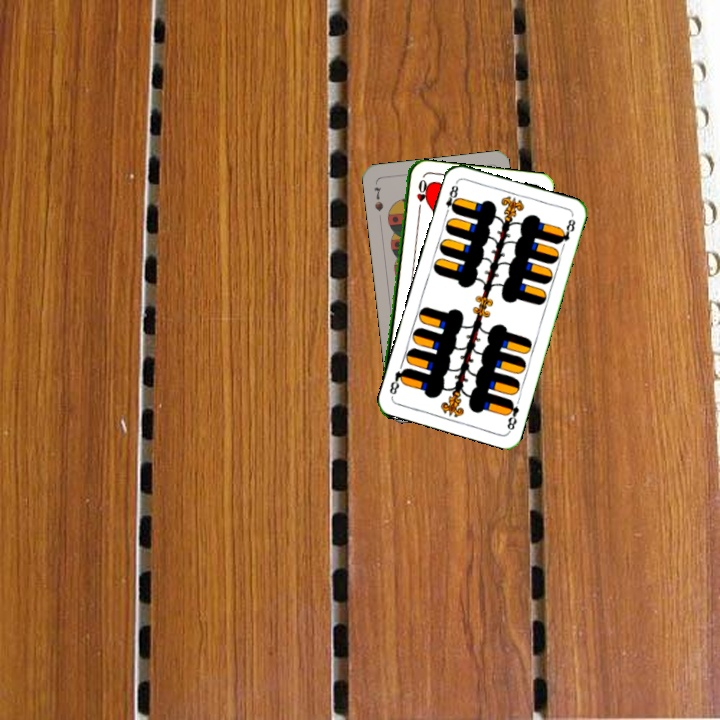E8: (441, 178, 461, 218), (502, 396, 522, 434)
HO: (412, 175, 428, 215)
S7: (370, 183, 386, 214)
